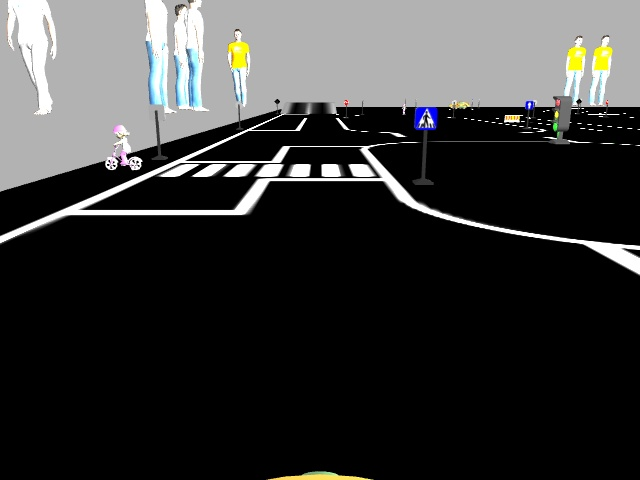Crosswalk: (415, 103, 437, 131)
Pedestrian: (99, 123, 142, 171)
TrafficLight: (549, 93, 571, 134)
